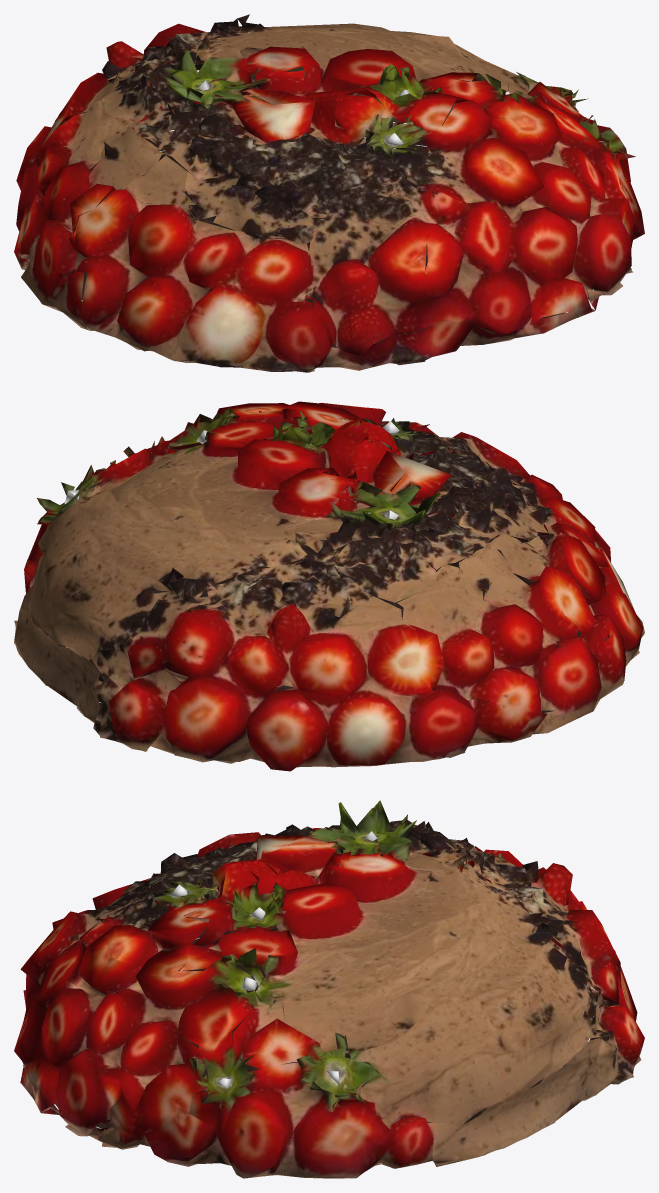
Rendered from ph_cake_berry.glb.
3 views of the same model, one above another, from view 1: azimuth 30°, elevation 25°; view 2: azimuth 150°, elevation 25°; view 3: azimuth 270°, elevation 25° (orthographic). The views are drawn at different scales.
Parts seen in each view (by area): view 1: strawberry_chocolate_cake; view 2: strawberry_chocolate_cake; view 3: strawberry_chocolate_cake.
Part boxes in pixels (x1,y1,x2,y2): strawberry_chocolate_cake: (14,14,644,372); strawberry_chocolate_cake: (14,401,644,771); strawberry_chocolate_cake: (14,800,644,1178).
Size of the model in its own units: 0.2432 by 0.0797 by 0.2403.
Materials: 1 (1 with a texture image).
